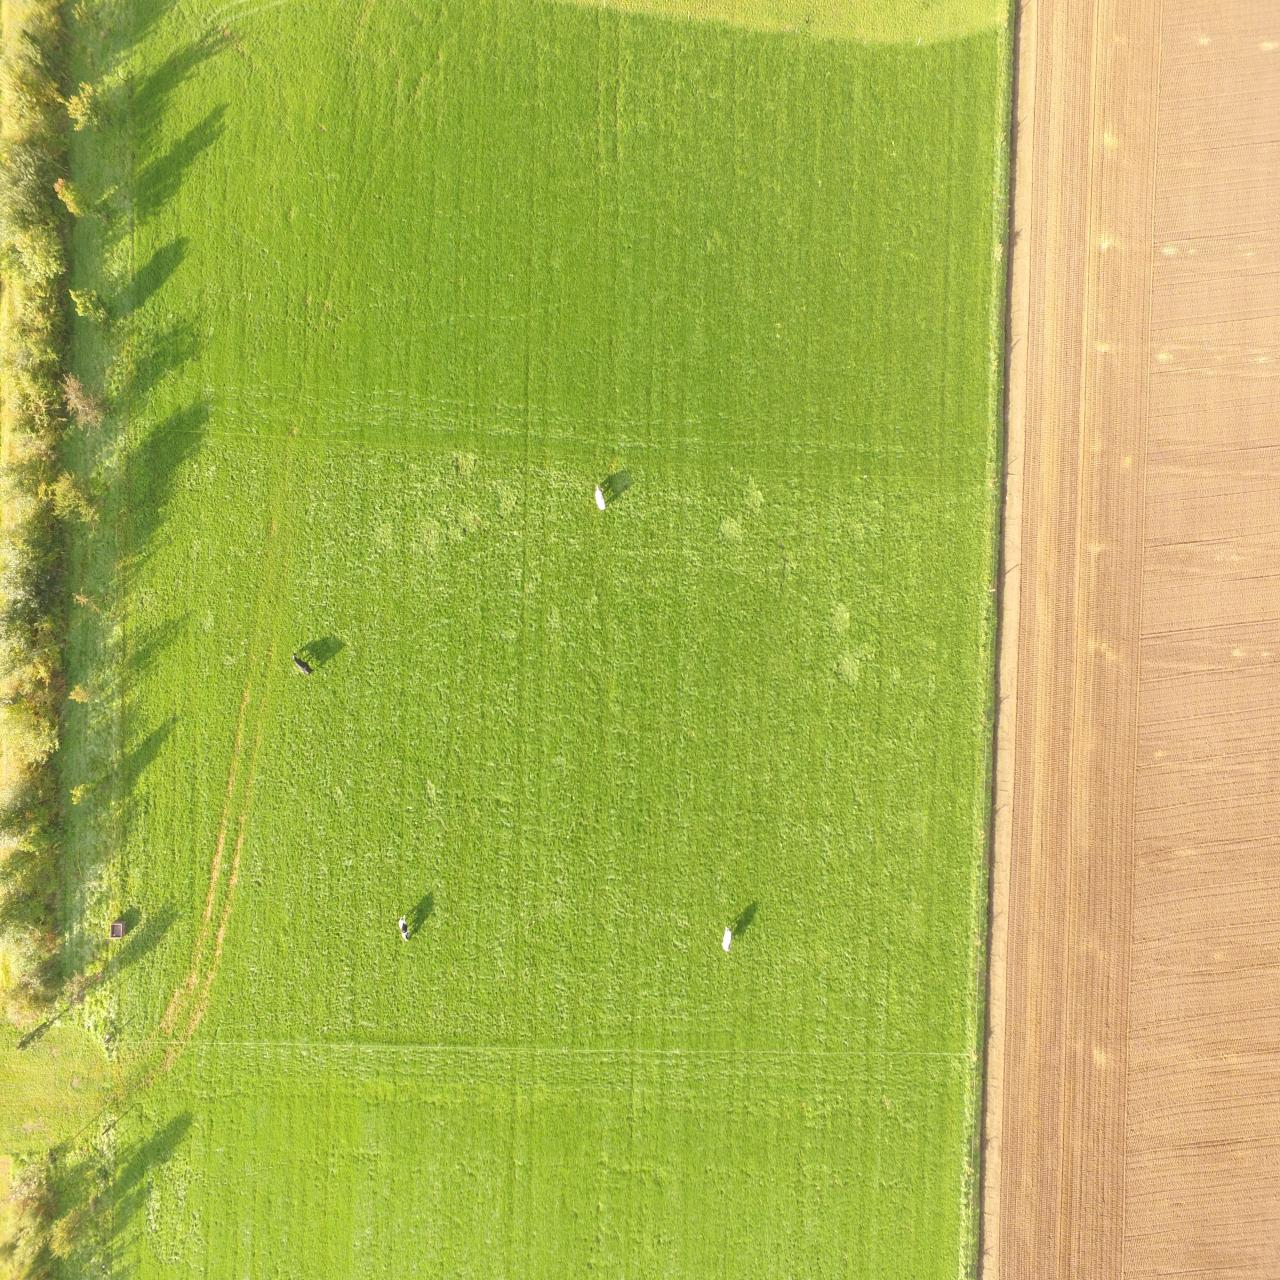cow: (291, 652, 316, 678), (593, 482, 606, 512), (397, 914, 410, 942), (720, 922, 731, 952)
